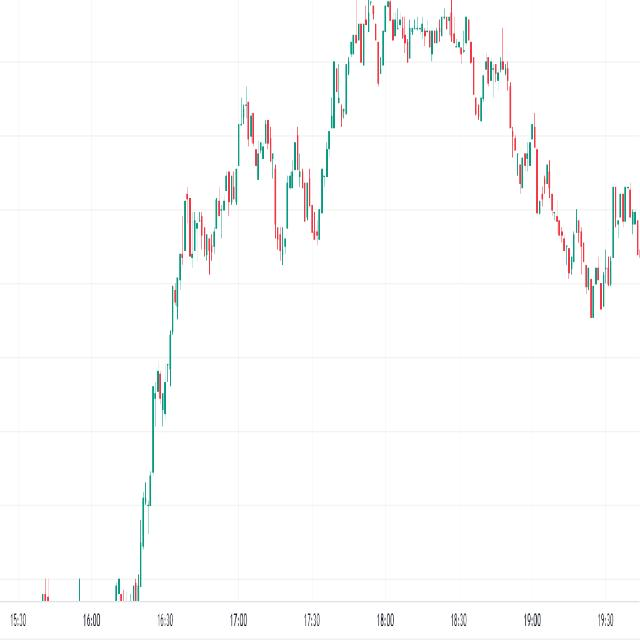Rounding-Top: (318, 4, 544, 191)
